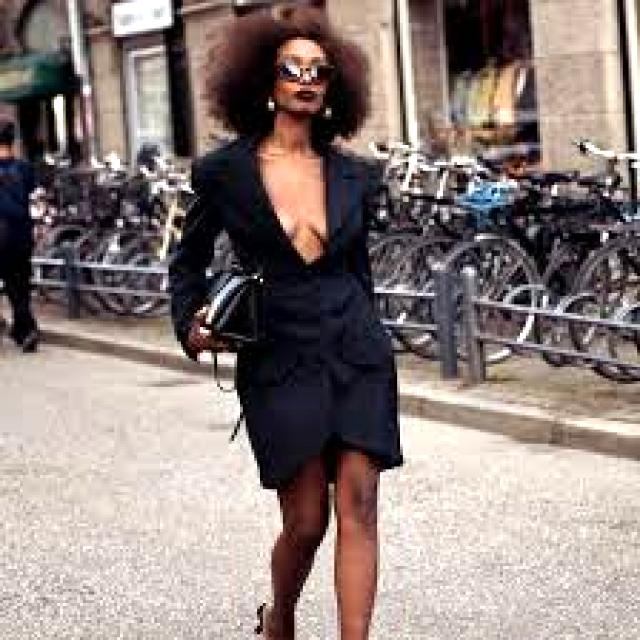dress: (169, 137, 402, 489)
